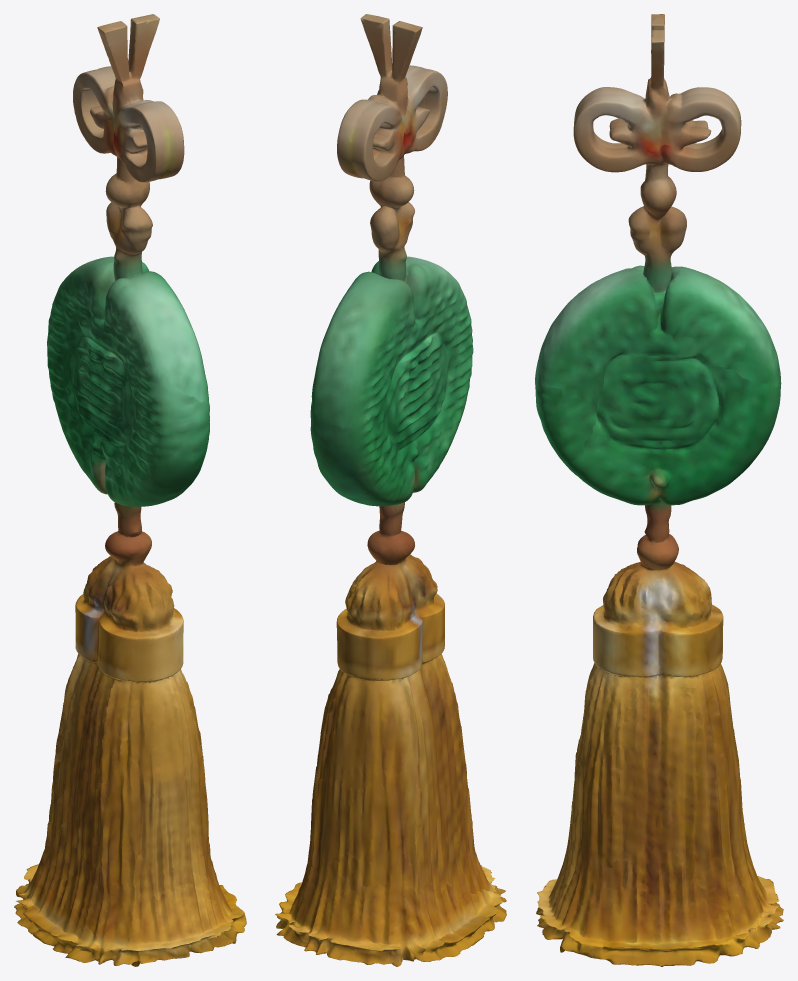
File: phu_kien_2.glb
The picture shows the model from 3 angles, left to right: view 1: azimuth 30°, elevation 25°; view 2: azimuth 150°, elevation 25°; view 3: azimuth 270°, elevation 25°; orthographic projection.
Parts seen in each view (by area): view 1: PhuKien_2; view 2: PhuKien_2; view 3: PhuKien_2.
Part boxes in pixels (x1,y1,x2,y2): PhuKien_2: (14,14,246,966); PhuKien_2: (275,14,506,966); PhuKien_2: (535,14,783,966).
Size of the model in its own units: 0.0447 by 0.2139 by 0.0535.
1 material, 1 textured.
